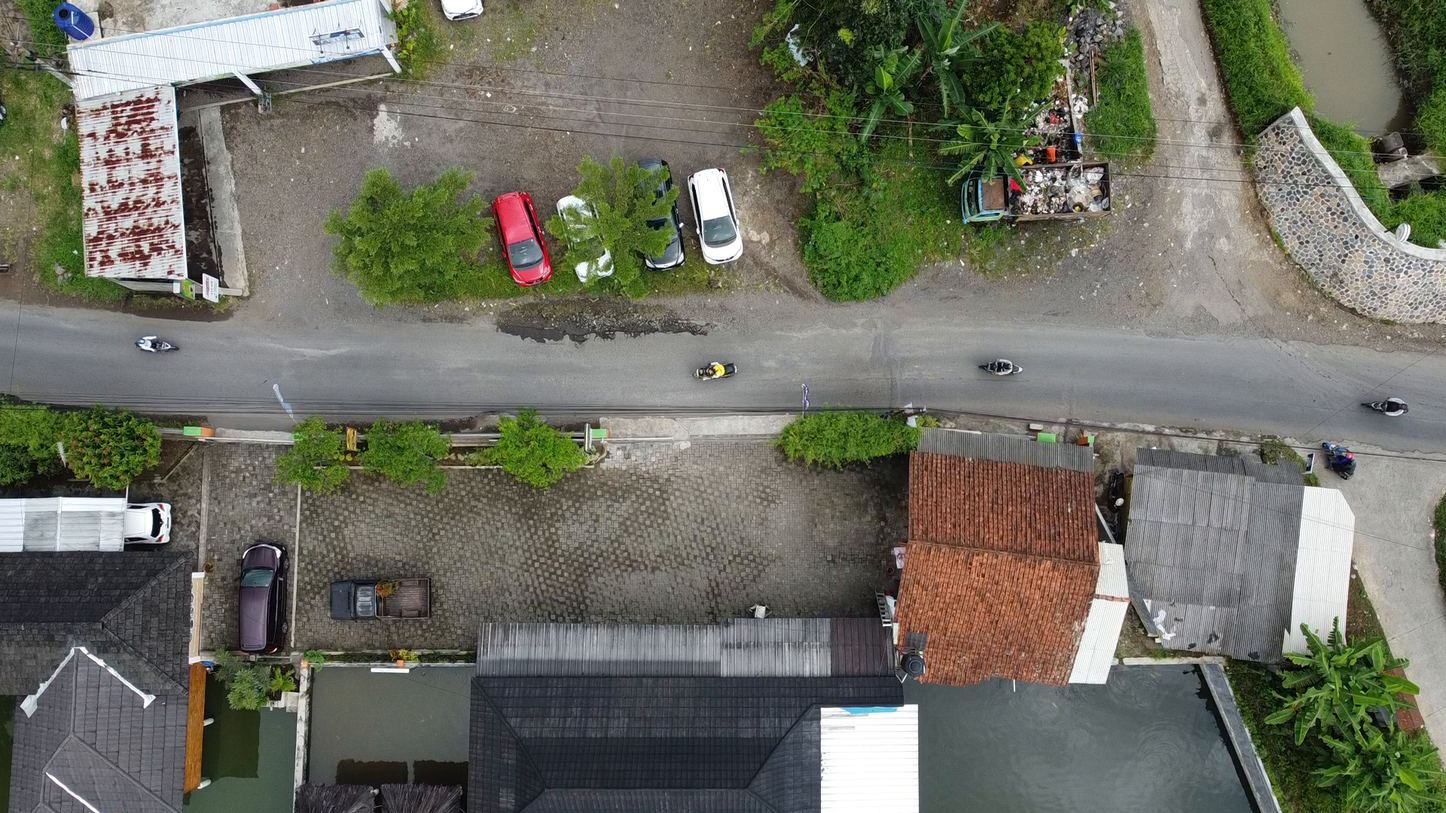mobil: (621, 146, 683, 282), (676, 166, 753, 275), (557, 183, 621, 294), (484, 188, 551, 294), (233, 537, 294, 653), (329, 564, 446, 623), (122, 495, 182, 555)
